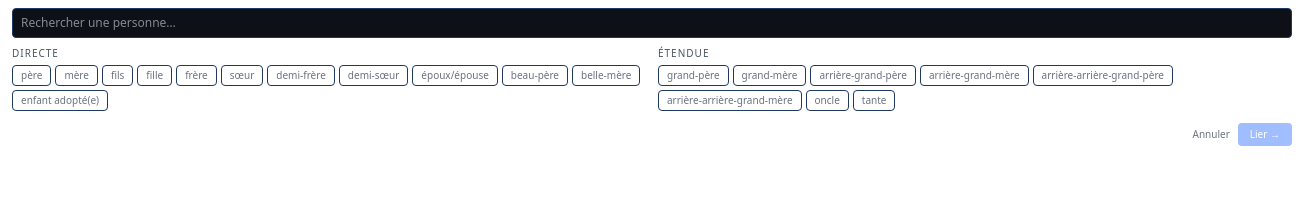
Test case: LinkPersonForm › submit button is disabled until both person and role are selected
Check: the button "Lier →" is disabled, box [1238,123,1292,146]
Type "paul" into the field with placeholder "Rechercher une personne…" at (652, 23), box [12,8,1292,38]
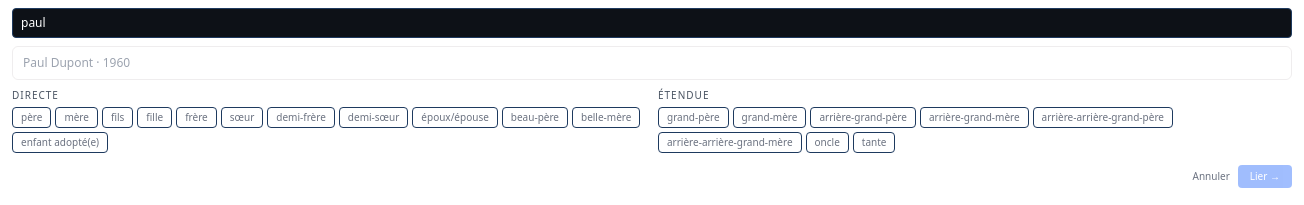
Click the button "Paul Dupont · 1960" at (72, 62), box [15,49,1289,77]
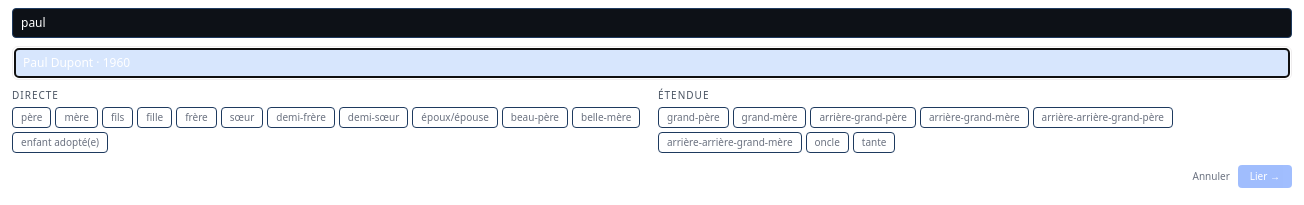
Check: the button "Lier →" is disabled, box [1238,165,1292,188]
Click the button "père" at (32, 118), box [12,107,51,128]
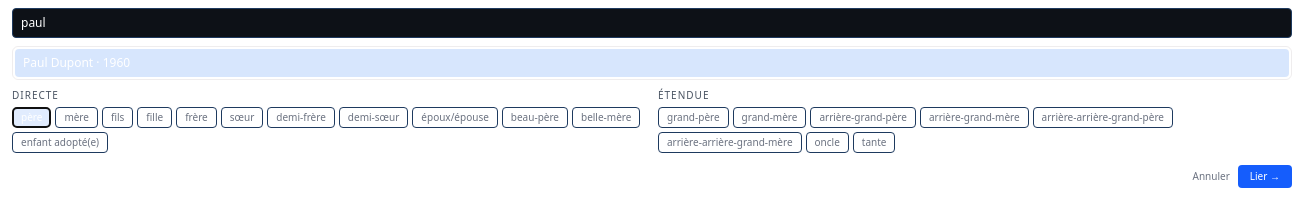
Check: the button "Lier →" is enabled, box [1238,165,1292,188]
